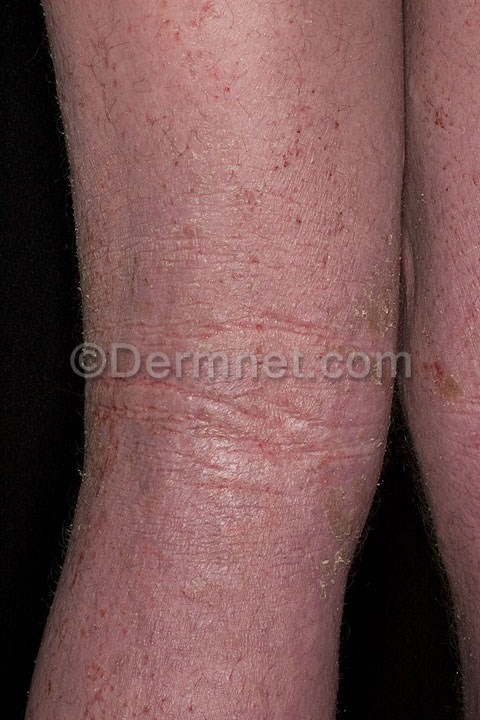Eczema: (81, 11, 378, 719), (407, 10, 480, 403)
